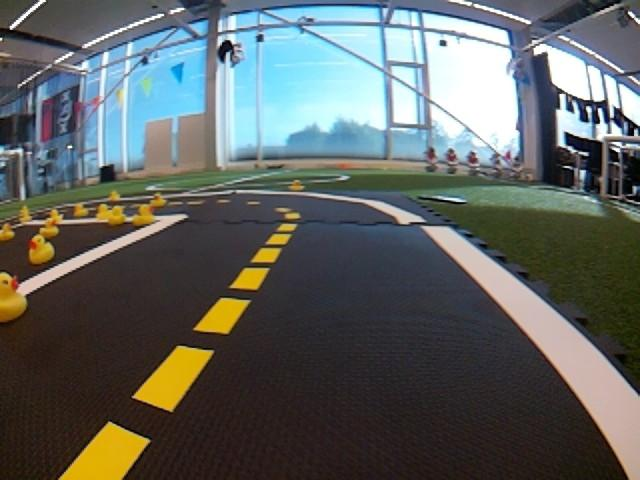Duckies: (0, 271, 27, 322), (28, 233, 55, 264), (132, 205, 157, 225), (107, 205, 128, 226), (40, 219, 60, 238), (97, 204, 114, 220), (0, 223, 14, 241), (46, 210, 62, 223), (150, 193, 167, 205), (75, 204, 90, 216), (287, 181, 303, 191), (109, 192, 121, 201), (19, 210, 30, 219)
